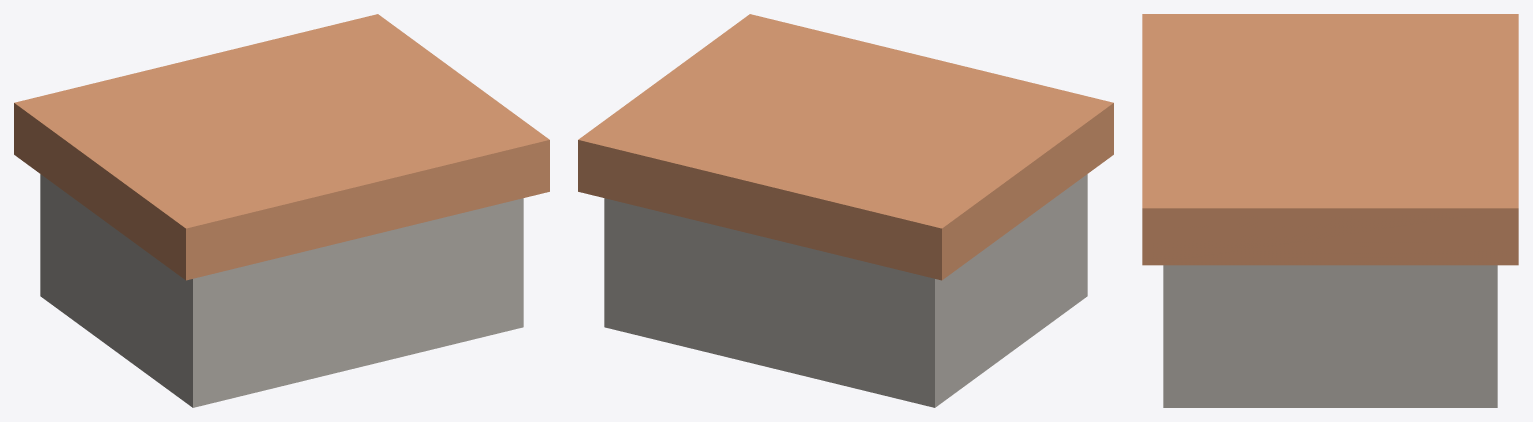
Rendered from heritage_structure.glb.
3 views of the same model, side by side, from view 1: azimuth 30°, elevation 25°; view 2: azimuth 150°, elevation 25°; view 3: azimuth 270°, elevation 25° (orthographic). The views are drawn at different scales.
Visible parts, largest first — view 1: Roof_Node, WorkshopWalls_Node; view 2: Roof_Node, WorkshopWalls_Node; view 3: Roof_Node, WorkshopWalls_Node.
Part boxes in pixels (x1,y1,x2,y2): Roof_Node: [14, 14, 549, 280]; WorkshopWalls_Node: [40, 174, 523, 407]; Roof_Node: [578, 14, 1113, 280]; WorkshopWalls_Node: [604, 174, 1087, 407]; Roof_Node: [1142, 14, 1518, 265]; WorkshopWalls_Node: [1163, 265, 1497, 407].
Size of the model in its own units: 11 by 5.5 by 9.
